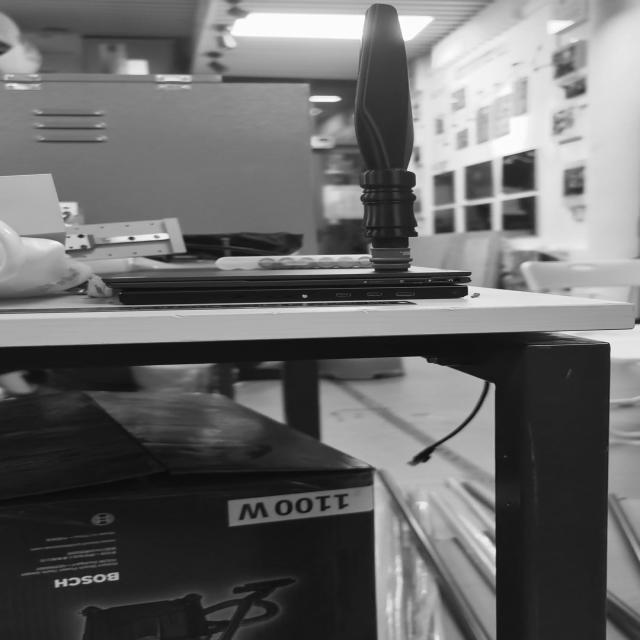base: (370, 247, 411, 271)
